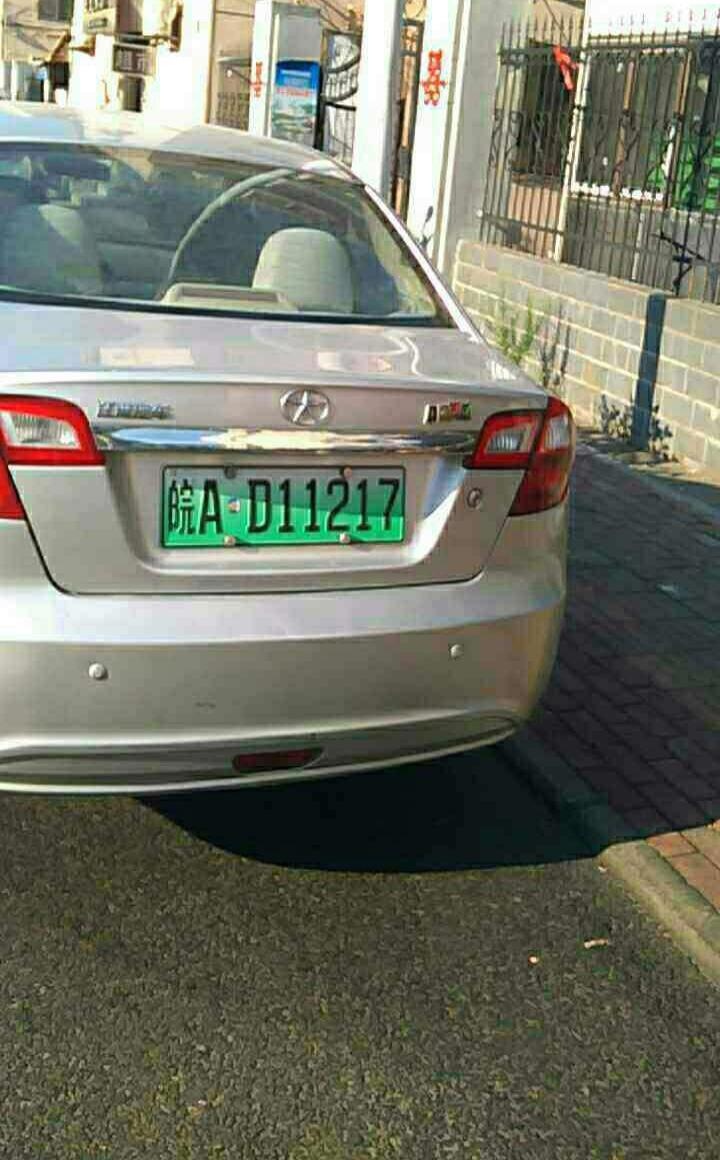car_id: (160, 465, 405, 539)
